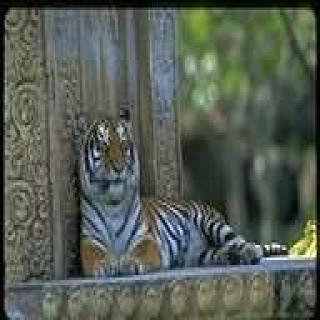Tiger: (47, 92, 278, 273)
